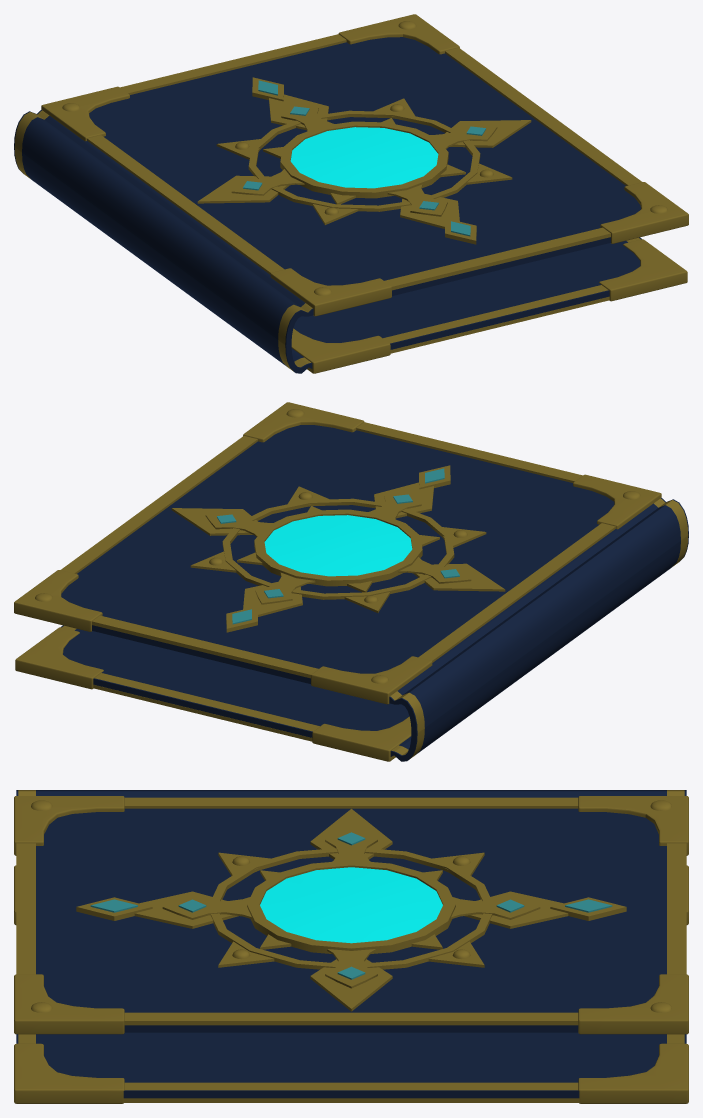
The model's file is SpellbookNoUV_Full.fbx.
The picture shows the model from 3 angles, top to bottom: view 1: azimuth 30°, elevation 25°; view 2: azimuth 150°, elevation 25°; view 3: azimuth 270°, elevation 25°; orthographic projection. The views are drawn at different scales.
Visible parts, largest first — view 1: spellbook_front, spellbook_back, spellbook_spine; view 2: spellbook_front, spellbook_back, spellbook_spine; view 3: spellbook_front, spellbook_back, spellbook_spine.
Part boxes in pixels (left/top/right/bottom): spellbook_front: left=37, top=14, right=688, bottom=316; spellbook_back: left=291, top=237, right=687, bottom=373; spellbook_spine: left=14, top=111, right=308, bottom=373; spellbook_front: left=14, top=402, right=665, bottom=704; spellbook_back: left=15, top=625, right=411, bottom=761; spellbook_spine: left=394, top=499, right=688, bottom=761; spellbook_front: left=14, top=796, right=688, bottom=1034; spellbook_back: left=14, top=865, right=688, bottom=1103; spellbook_spine: left=16, top=790, right=686, bottom=797.
Size of the model in its own units: 29.06 by 5.24 by 34.27.
